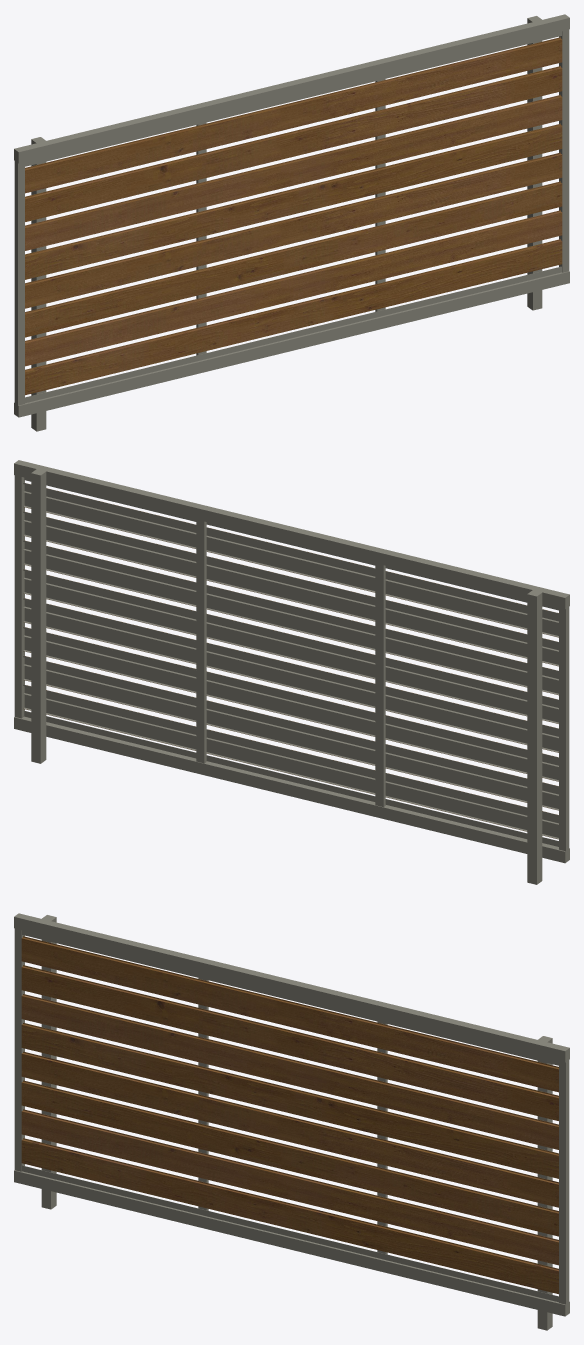
Rendered from EAF-sensia-r-yoko_w1998_h1000_S_naturalpine.fbx.
3 views of the same model, one above another, from view 1: azimuth 30°, elevation 25°; view 2: azimuth 150°, elevation 25°; view 3: azimuth 330°, elevation 25° (orthographic).
Visible parts, largest first — view 1: EAF-sensia-r-yoko_w1998_h1000_S-darkpine.003; view 2: EAF-sensia-r-yoko_w1998_h1000_S-darkpine.003; view 3: EAF-sensia-r-yoko_w1998_h1000_S-darkpine.003.
Boxes of the visible parts, <box> form: EAF-sensia-r-yoko_w1998_h1000_S-darkpine.003: <box>14,14,569,431</box>; EAF-sensia-r-yoko_w1998_h1000_S-darkpine.003: <box>14,460,569,884</box>; EAF-sensia-r-yoko_w1998_h1000_S-darkpine.003: <box>14,913,569,1330</box>.
Size of the model in its own units: 200 by 100 by 6.5.
Materials: 2 (2 with a texture image).
